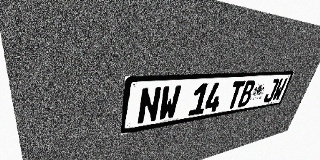1: (188, 83, 211, 116)
4: (203, 82, 225, 113)
B: (237, 80, 256, 107)
J: (262, 78, 280, 103)
N: (137, 86, 162, 125)
T: (225, 81, 246, 109)
W: (157, 85, 182, 121), (271, 78, 288, 102)
